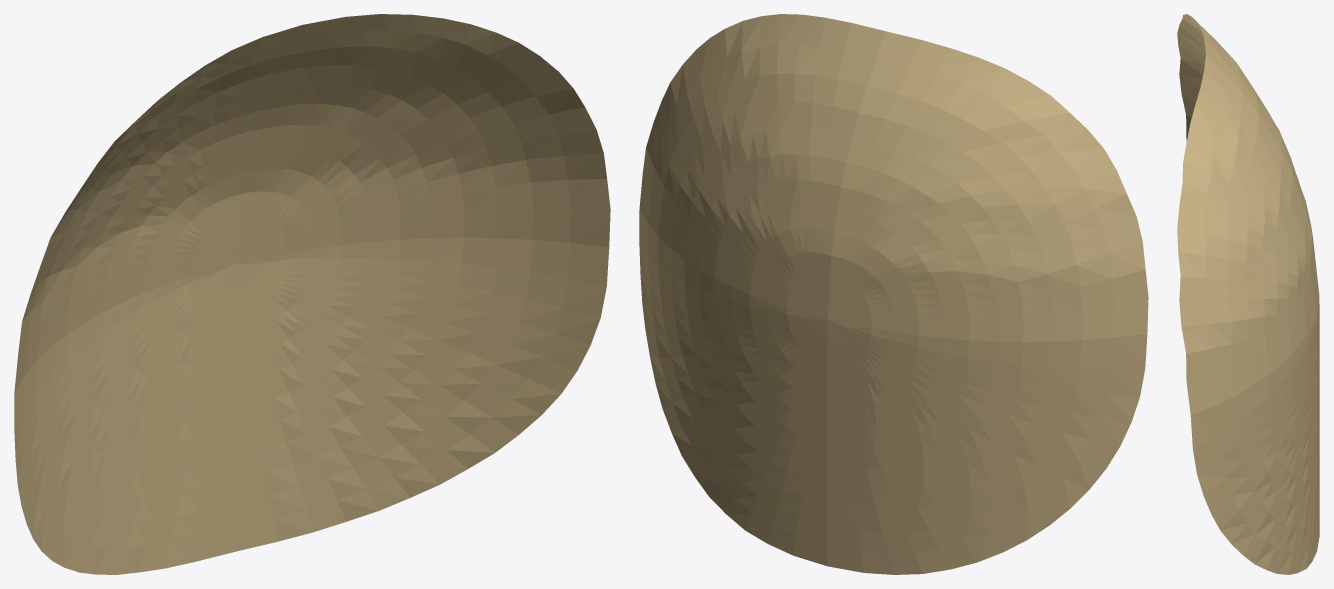
3 renders of one model, left to right at view 1: azimuth 30°, elevation 25°; view 2: azimuth 150°, elevation 25°; view 3: azimuth 270°, elevation 25°, orthographic. The views are drawn at different scales.
Parts seen in each view (by area): view 1: geometry_0; view 2: geometry_0; view 3: geometry_0.
Boxes of the visible parts, x1,y1,x2,y2 form: geometry_0: (14, 14, 610, 574); geometry_0: (639, 14, 1148, 574); geometry_0: (1177, 14, 1319, 574).
Size of the model in its own units: 0.6 by 0.556 by 0.149.
